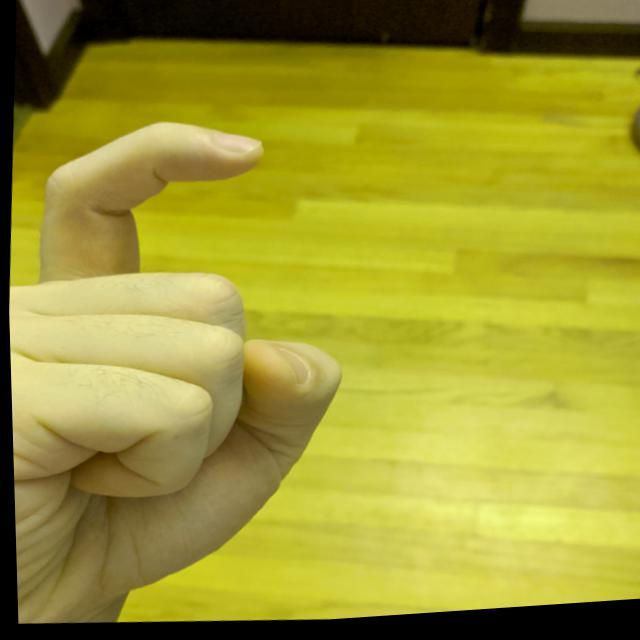X: (3, 96, 372, 639)
